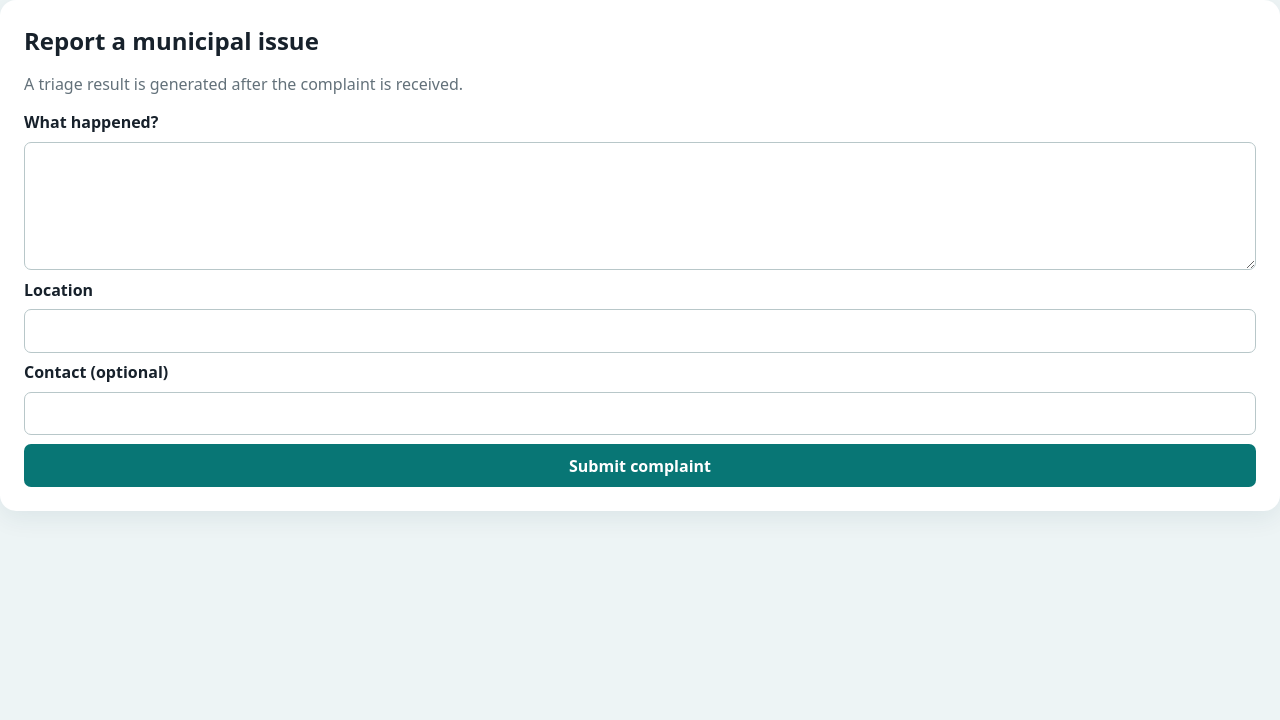
Test: ComplaintForm › shows a server rate-limit explanation and lets the resident retry
Type "Water is flooding the street outside school" into the text box labelled "What happened?". click: {"x": 640, "y": 206}
box: x1=24 y1=142 x2=1256 y2=270
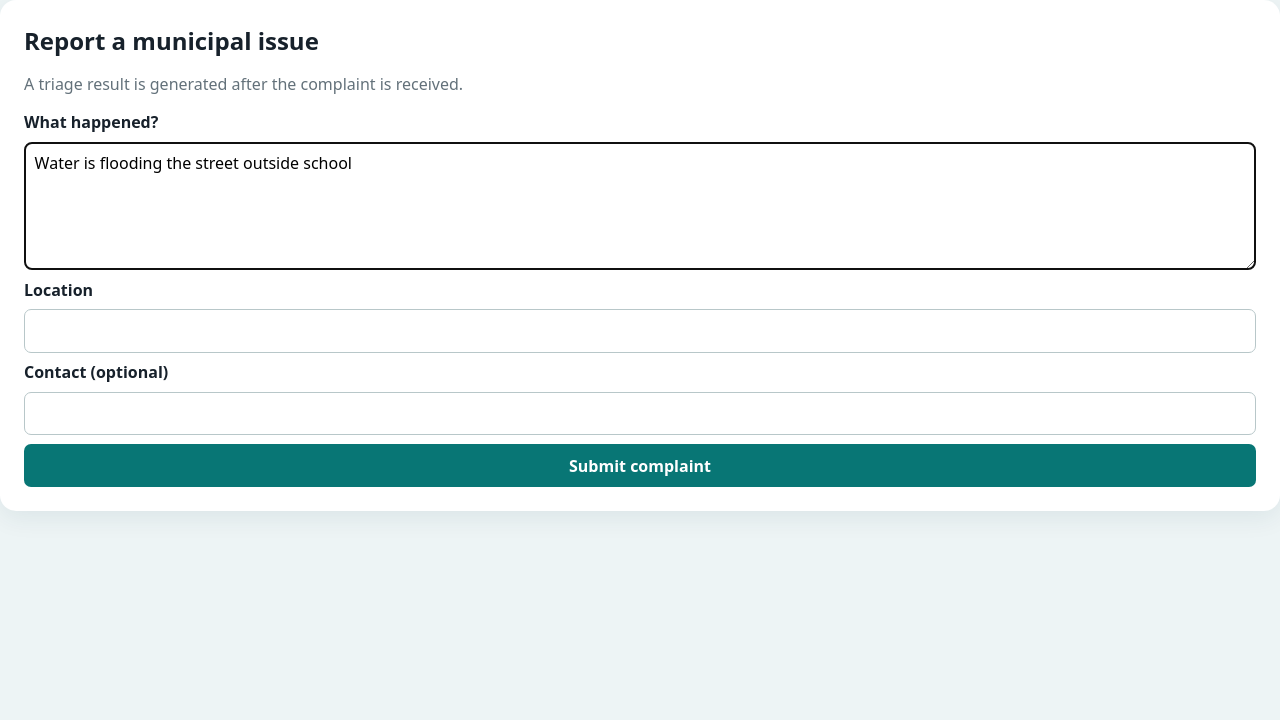
Type "Model Town" into the field labelled "Location". click: {"x": 640, "y": 331}
box: x1=24 y1=309 x2=1256 y2=353
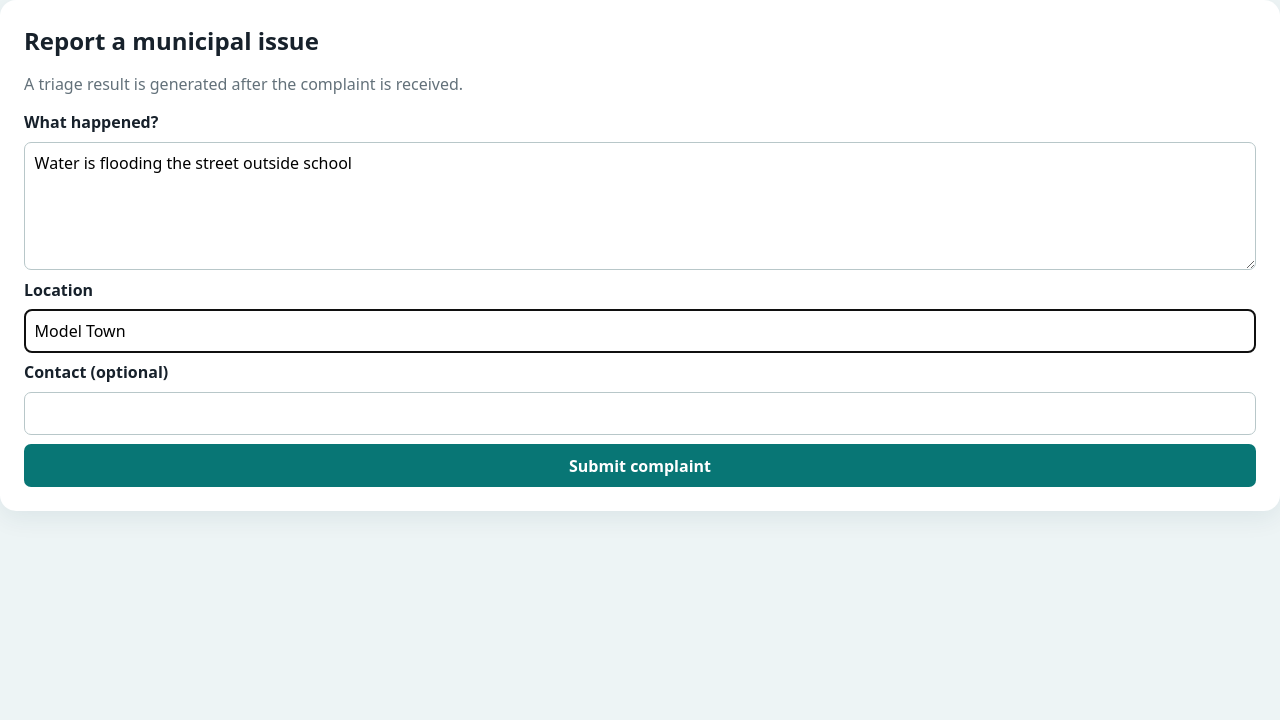
Click the button "Submit complaint". click: {"x": 640, "y": 466}
box: x1=24 y1=444 x2=1256 y2=487
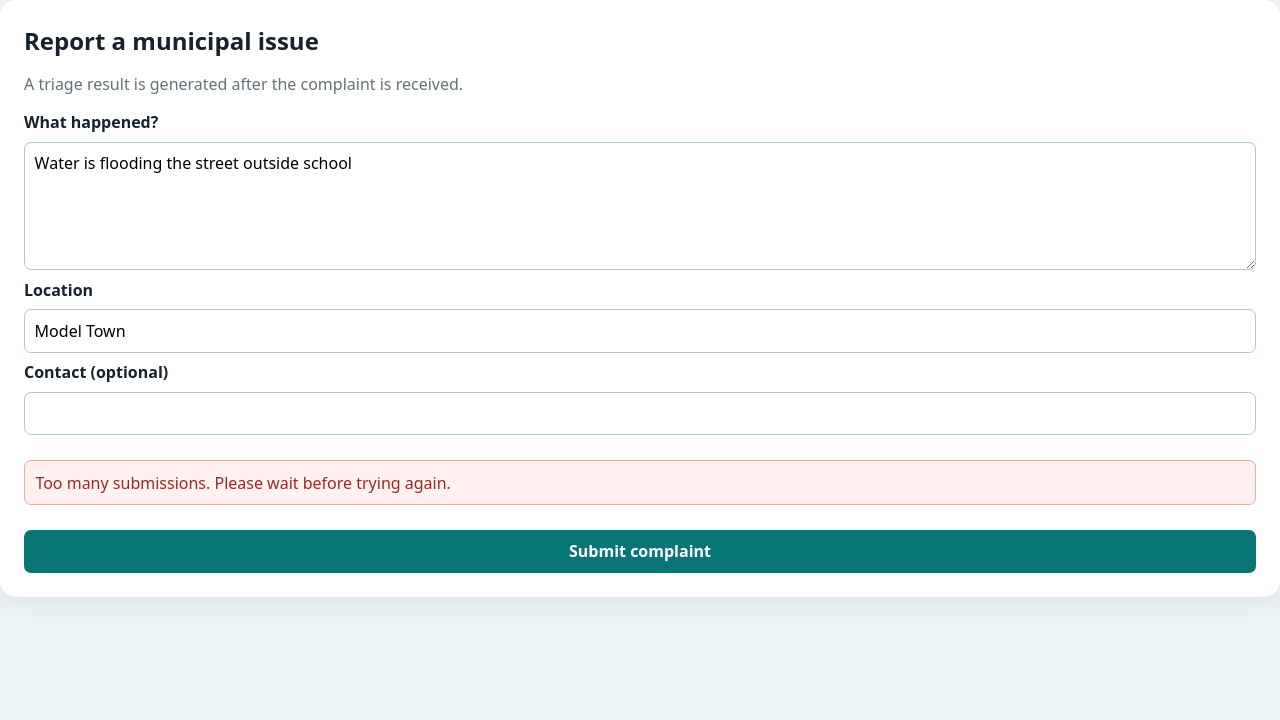
Expected: the button "Submit complaint" is enabled, x1=24 y1=530 x2=1256 y2=572
Now the message reads "Too many submissions. Please wait before trying again.", box x1=35 y1=472 x2=451 y2=494
